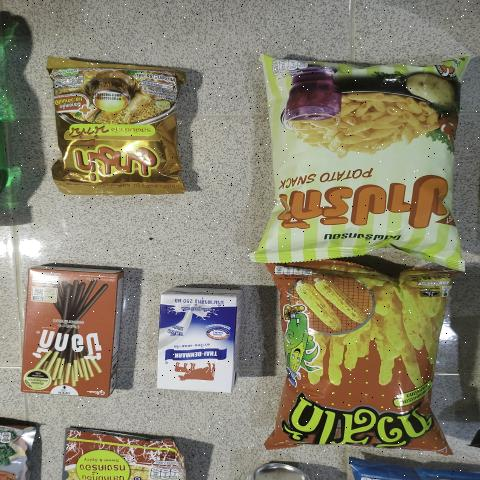mama: (34, 56, 200, 199)
paprika: (268, 57, 462, 254)
pokki: (19, 258, 124, 394)
thai_denmark: (156, 294, 237, 392)
twisco: (282, 282, 435, 451)
